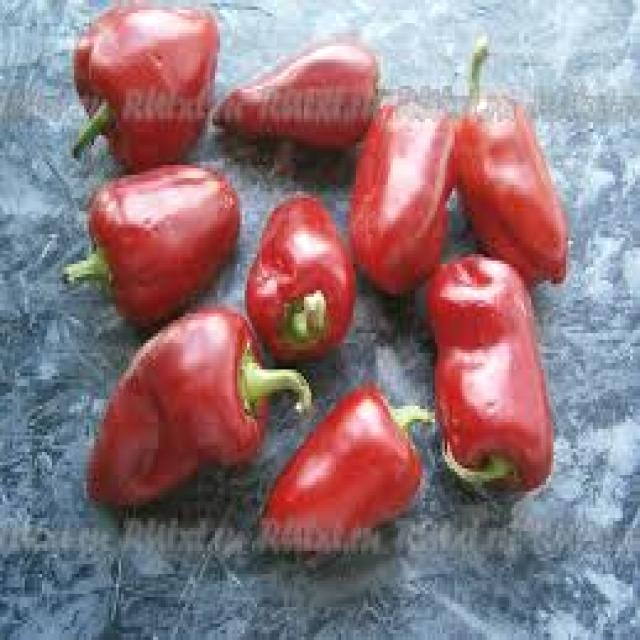carrot: (68, 291, 282, 517), (415, 235, 568, 509), (253, 370, 434, 583), (346, 70, 468, 320), (69, 164, 253, 328), (446, 84, 582, 288), (69, 0, 221, 172), (204, 27, 390, 166), (243, 162, 361, 370)
